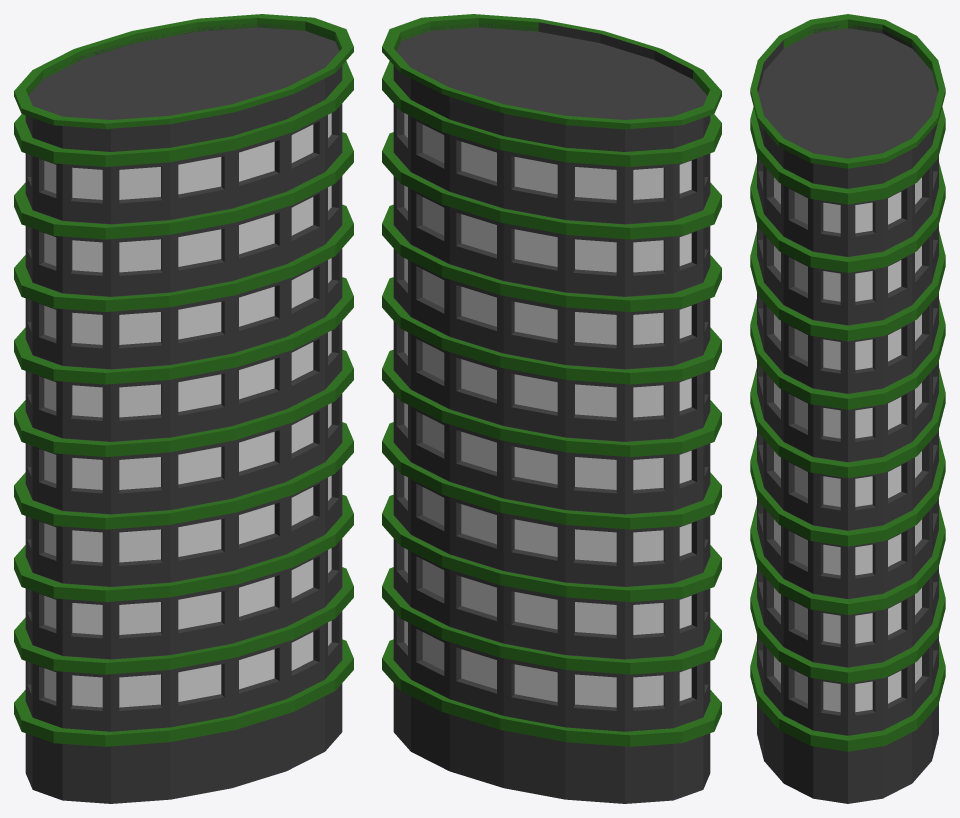
The model's file is building3.fbx.
3 views of the same model, side by side, from view 1: azimuth 30°, elevation 25°; view 2: azimuth 150°, elevation 25°; view 3: azimuth 270°, elevation 25° (orthographic). The views are drawn at different scales.
Parts seen in each view (by area): view 1: building, base.001, base; view 2: building, base.001, base; view 3: building, base.001, base.
Part boxes in pixels (left/top/right/bottom): building: left=14, top=61, right=353, bottom=731; base.001: left=14, top=14, right=353, bottom=151; base: left=14, top=639, right=353, bottom=803; building: left=382, top=61, right=721, bottom=731; base.001: left=382, top=14, right=721, bottom=151; base: left=382, top=639, right=721, bottom=803; building: left=750, top=107, right=945, bottom=735; base.001: left=750, top=14, right=945, bottom=188; base: left=750, top=641, right=945, bottom=803.
Bounding box in the file's own units: 552 × 1111 × 305.
